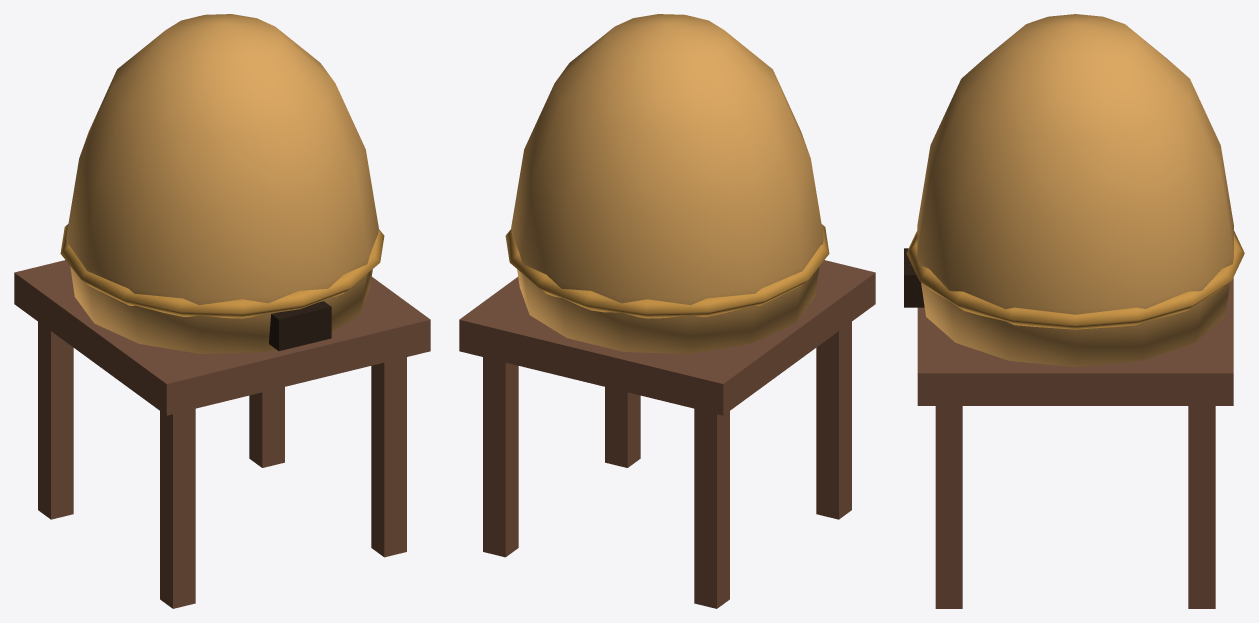
File: beehive.glb
The picture shows the model from 3 angles, left to right: view 1: azimuth 30°, elevation 25°; view 2: azimuth 150°, elevation 25°; view 3: azimuth 270°, elevation 25°; orthographic projection. The views are drawn at different scales.
Visible parts, largest first — view 1: beehive; view 2: beehive; view 3: beehive.
Boxes of the visible parts, <box> form: beehive: <box>14,14,430,608</box>; beehive: <box>459,14,875,608</box>; beehive: <box>904,14,1244,608</box>.
Size of the model in its own units: 0.75 by 1.28 by 0.755.
